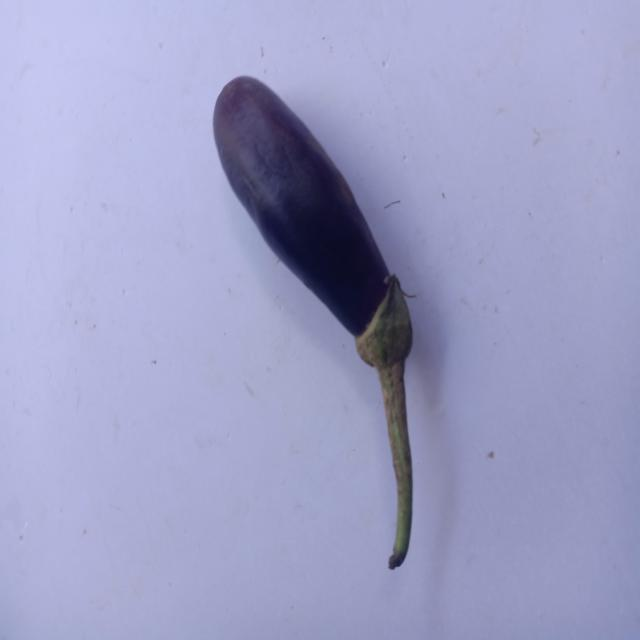Brinjal: (183, 54, 467, 578)
